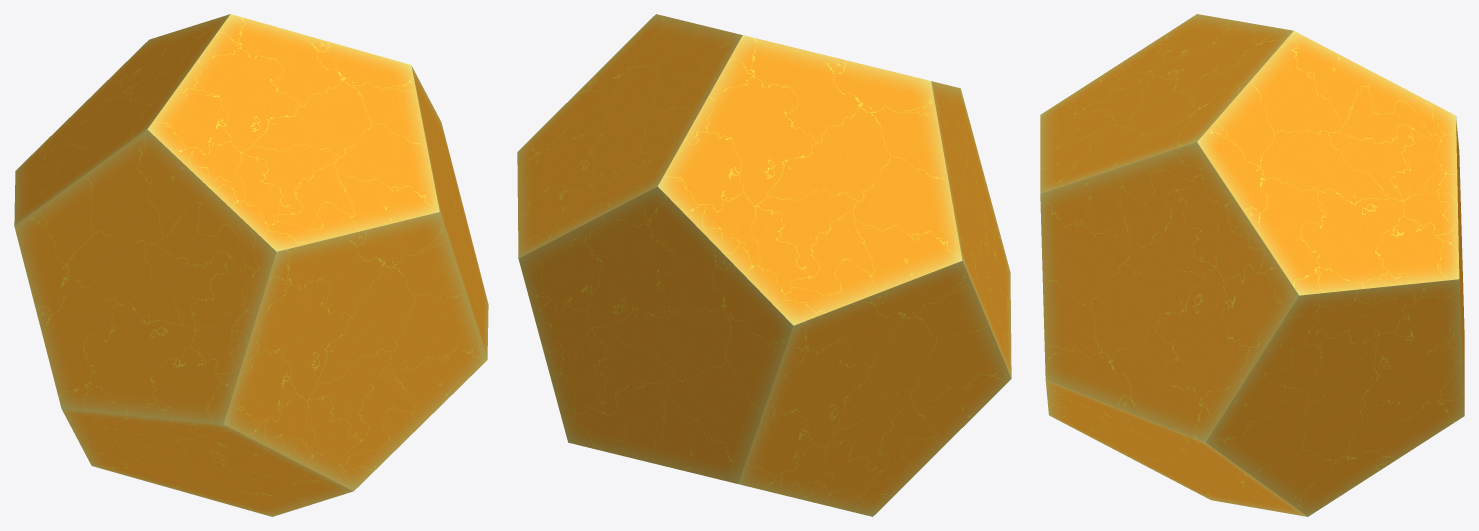
The model's file is twelve-sided-dice.fbx.
3 views of the same model, side by side, from view 1: azimuth 30°, elevation 25°; view 2: azimuth 150°, elevation 25°; view 3: azimuth 270°, elevation 25° (orthographic). The views are drawn at different scales.
Visible parts, largest first — view 1: Solid; view 2: Solid; view 3: Solid.
Part boxes in pixels (x1,y1,x2,y2): Solid: [14, 14, 488, 516]; Solid: [517, 14, 1011, 516]; Solid: [1040, 14, 1464, 516].
Size of the model in its own units: 187 by 197 by 162.
Materials: 1 (1 with a texture image).
